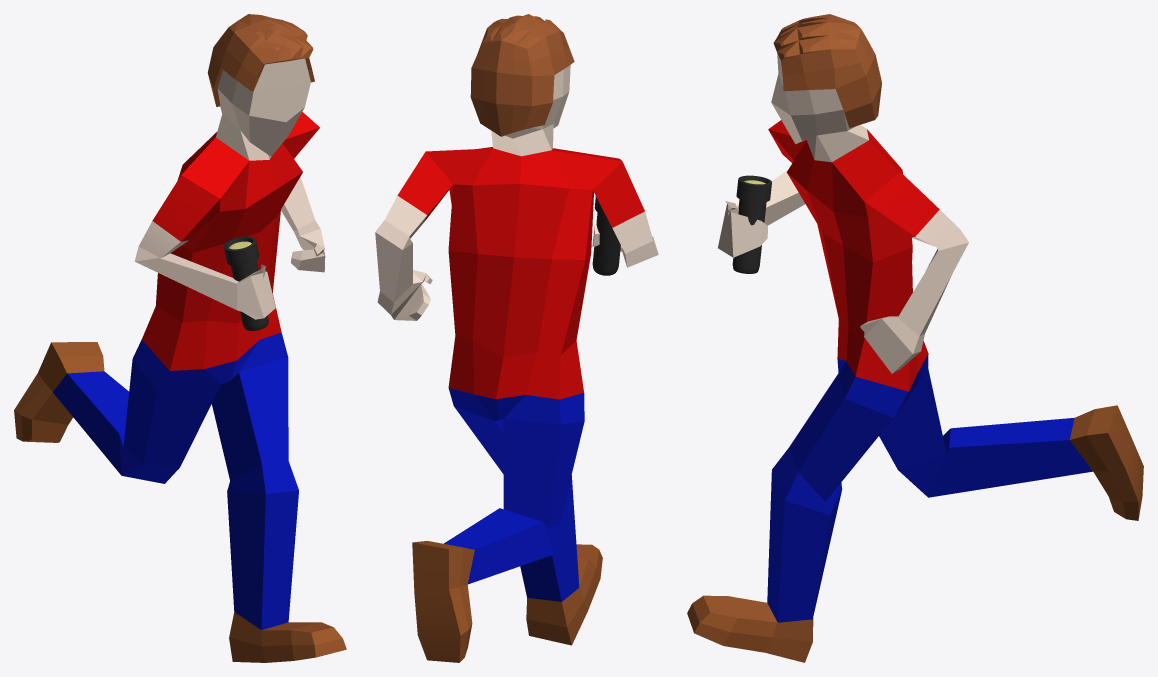
Rendered from Human_running_8.fbx.
3 views of the same model, side by side, from view 1: azimuth 30°, elevation 25°; view 2: azimuth 150°, elevation 25°; view 3: azimuth 270°, elevation 25° (orthographic). The views are drawn at different scales.
Visible parts, largest first — view 1: Person.004, Flashlight; view 2: Person.004, Flashlight; view 3: Person.004, Flashlight.
Part boxes in pixels (x1,y1,x2,y2): Person.004: [14, 14, 346, 662]; Flashlight: [223, 236, 268, 330]; Person.004: [375, 14, 658, 662]; Flashlight: [592, 196, 620, 275]; Person.004: [687, 14, 1143, 662]; Flashlight: [732, 175, 771, 273].
Size of the model in its own units: 0.6069 by 1.54 by 0.9945.
